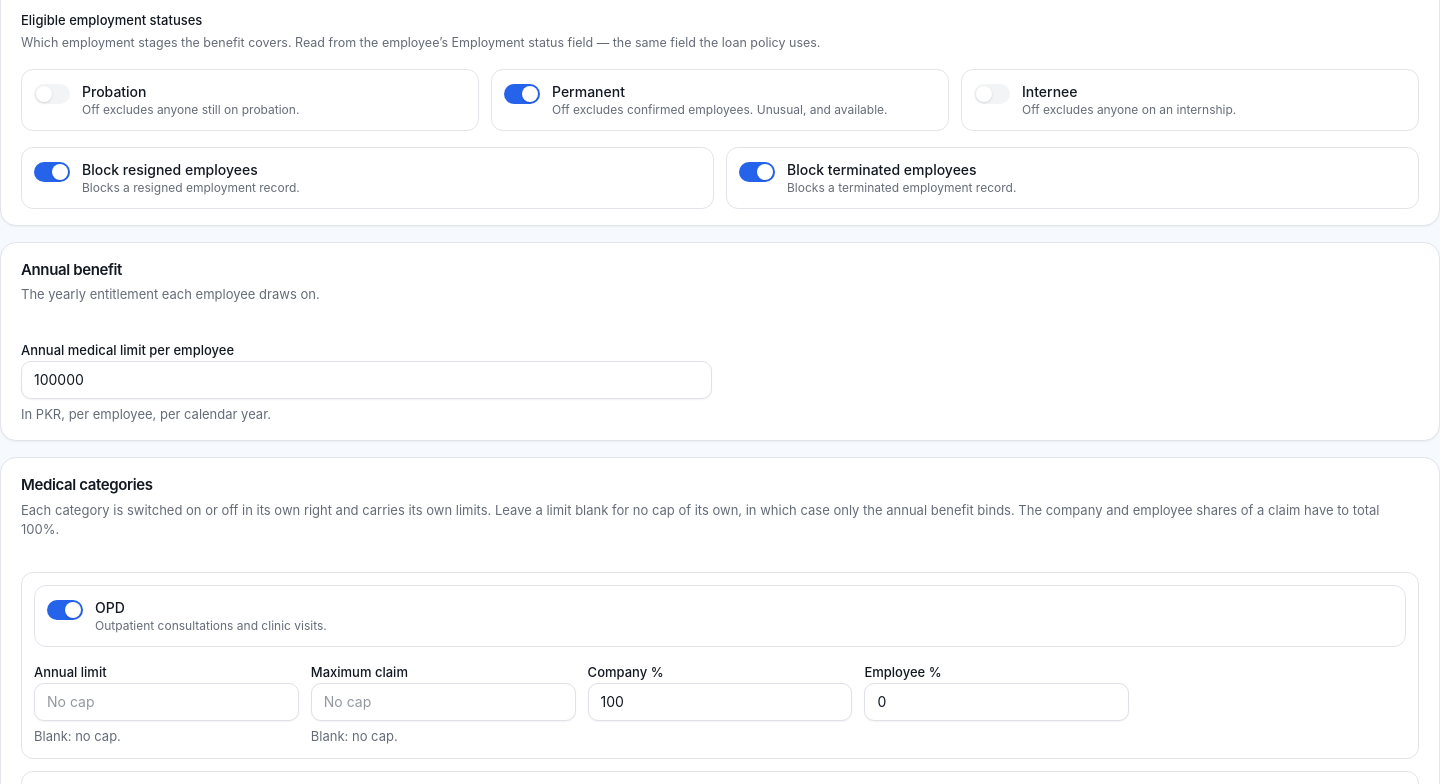
Scenario: validation the screen enforces before anything is sent › refuses a negative annual limit and says so
(page scrolled)
Replace the text in the number field labelled "Annual medical limit per employee" with "-5" at (366, 380), box [21,361,712,399]
(page scrolled)
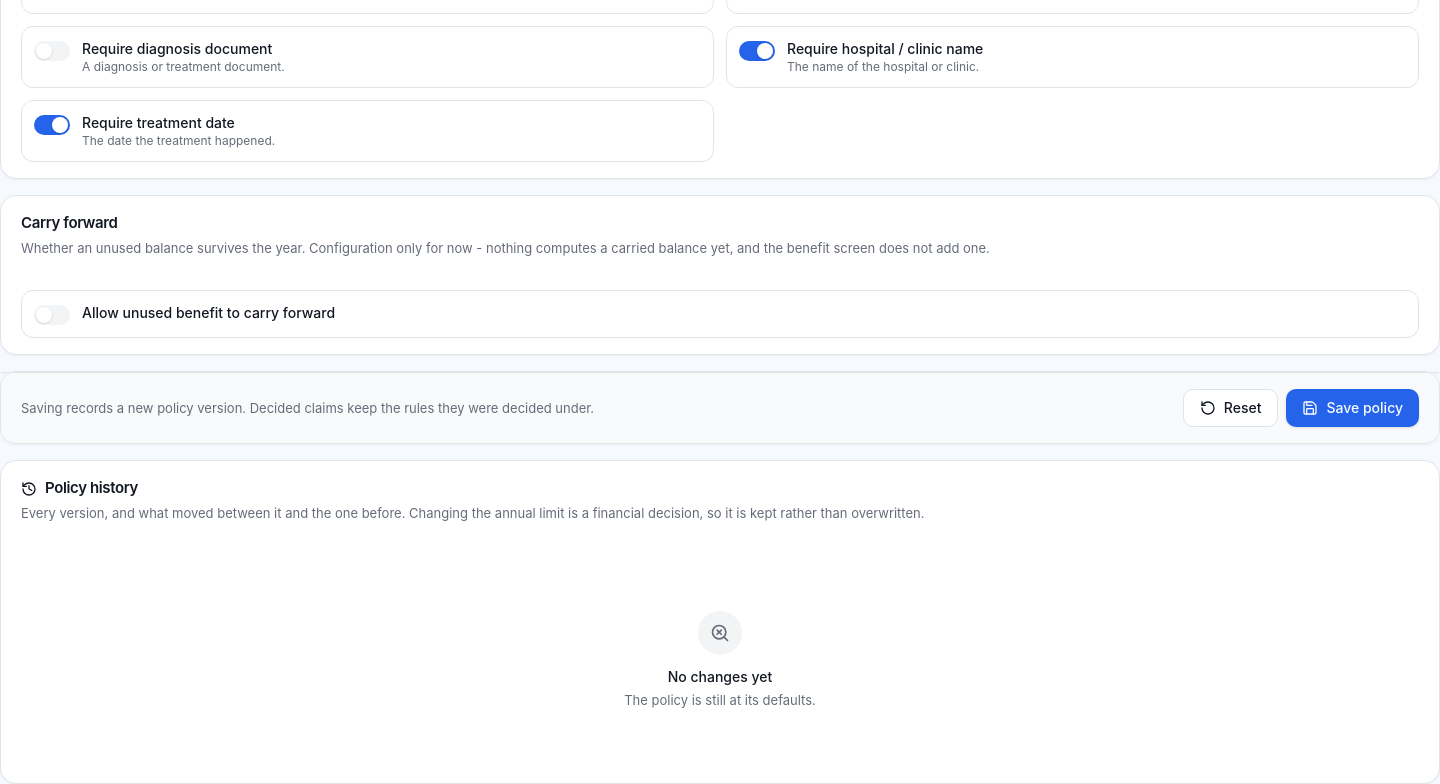
Click the button "Save policy".
click(1353, 408)  # box [1286,389,1419,427]
(page scrolled)
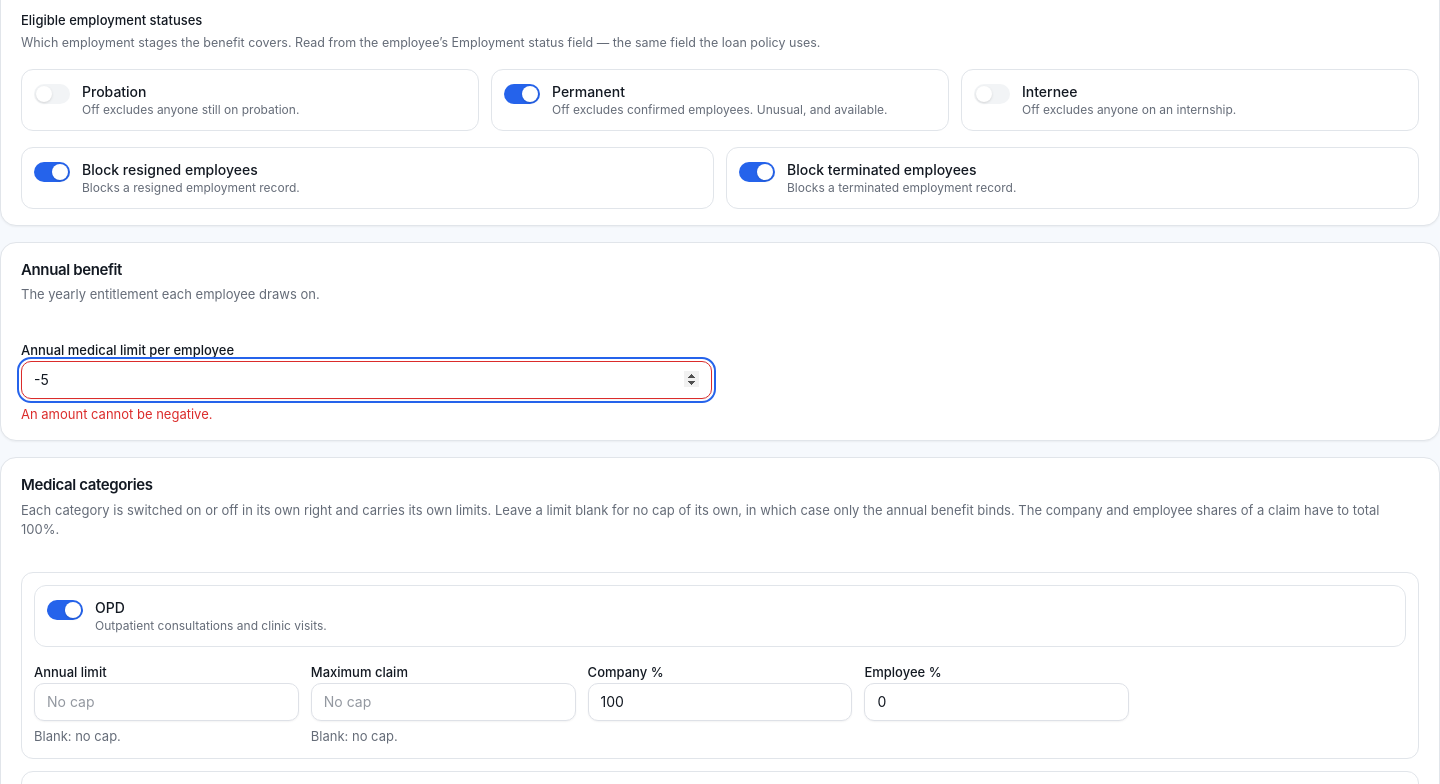
Now the text "An amount cannot be negative." is shown, box [21,406,212,422]
